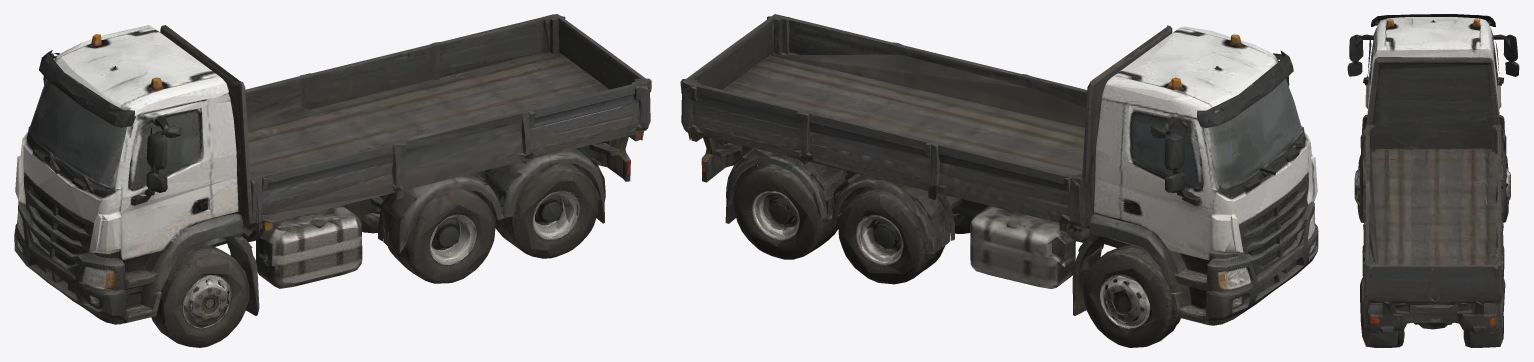
File: lkw.glb
The picture shows the model from 3 angles, left to right: view 1: azimuth 30°, elevation 25°; view 2: azimuth 150°, elevation 25°; view 3: azimuth 270°, elevation 25°; orthographic projection. The views are drawn at different scales.
Parts seen in each view (by area): view 1: Mesh_0; view 2: Mesh_0; view 3: Mesh_0.
Boxes of the visible parts, <box> form: Mesh_0: <box>14,14,651,347</box>; Mesh_0: <box>680,14,1318,347</box>; Mesh_0: <box>1347,14,1519,347</box>.
Bounding box in the file's own units: 6.9 × 3.1 × 2.55.
Materials: 1 (1 with a texture image).
